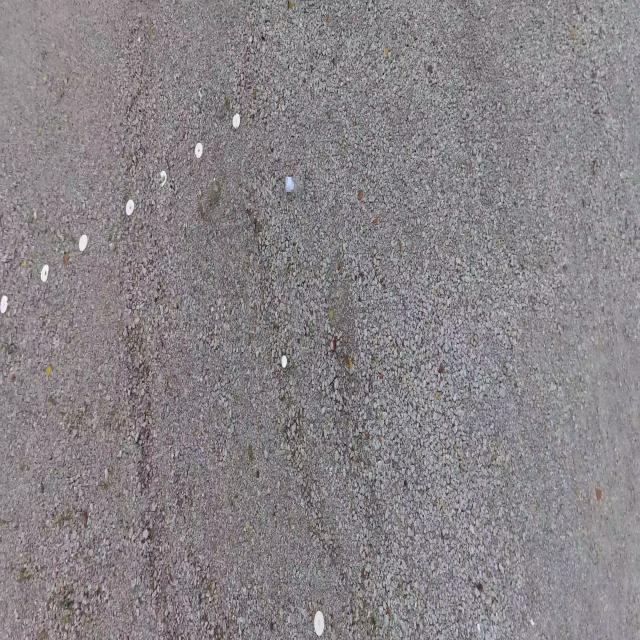rubbish: (284, 176, 306, 193), (282, 355, 287, 367)
